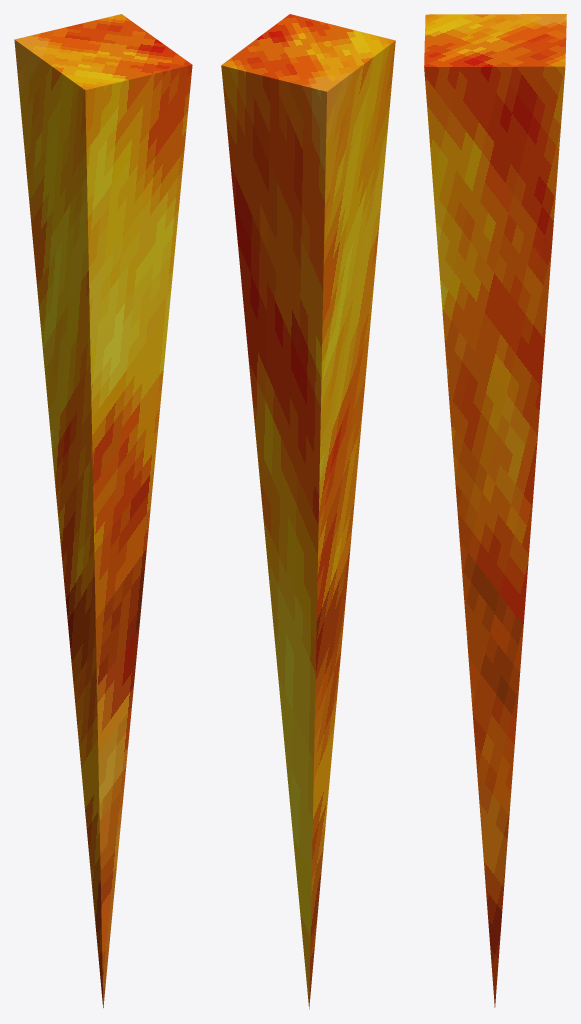
The model's file is pyram1.glb.
3 views of the same model, side by side, from view 1: azimuth 30°, elevation 25°; view 2: azimuth 150°, elevation 25°; view 3: azimuth 270°, elevation 25° (orthographic).
Visible parts, largest first — view 1: pyram1; view 2: pyram1; view 3: pyram1.
Part boxes in pixels (left/top/right/bottom): pyram1: left=14, top=14, right=192, bottom=1007; pyram1: left=221, top=14, right=395, bottom=1009; pyram1: left=424, top=14, right=566, bottom=1007.
Bounding box in the file's own units: 1.05 × 8.92 × 1.19.
1 material, 1 textured.
